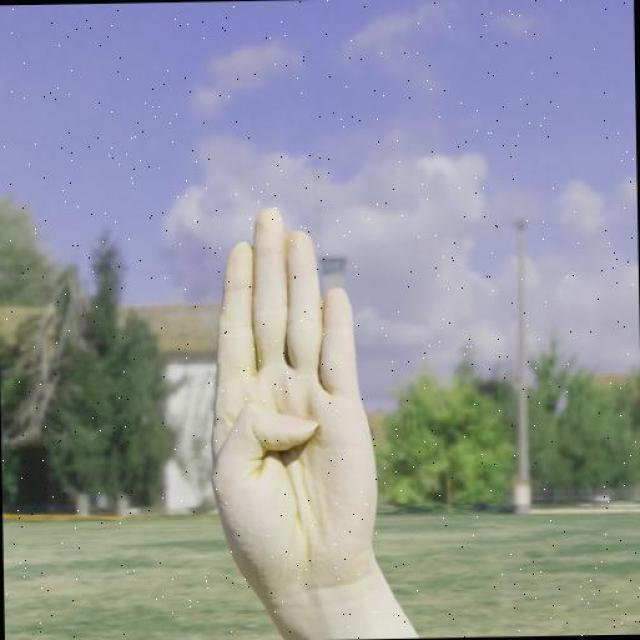B: (207, 202, 384, 569)
